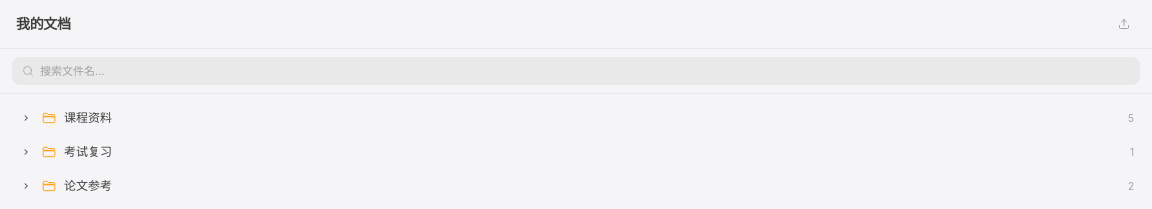
FileManager › 搜索框过滤文件
Type "analyse" into the field with placeholder "搜索文件名...".
click(576, 71); type("analyse")  # box [12,57,1140,85]
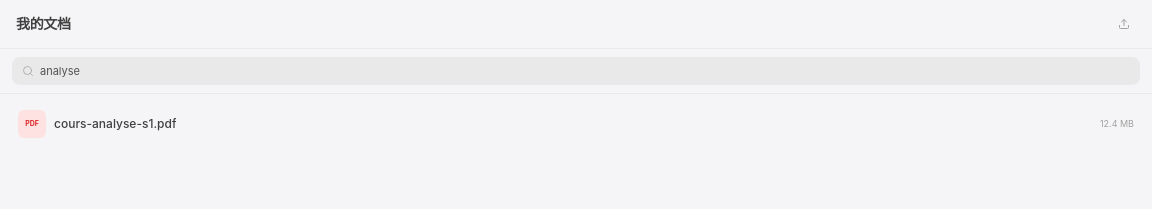
Result: the text "cours-analyse-s1.pdf" is shown at [54,116,176,132]
